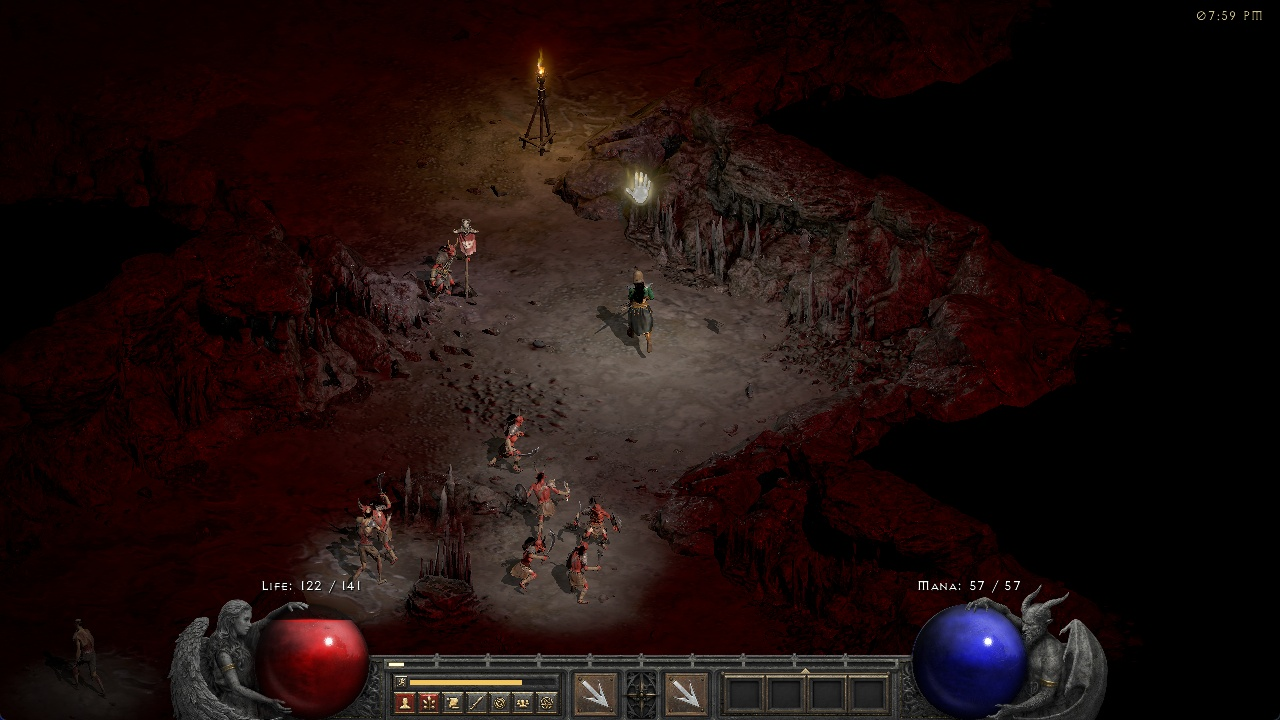fallen: (508, 529, 556, 596), (492, 408, 538, 468), (515, 471, 571, 518), (566, 541, 603, 601), (364, 476, 400, 529), (578, 495, 619, 531)
